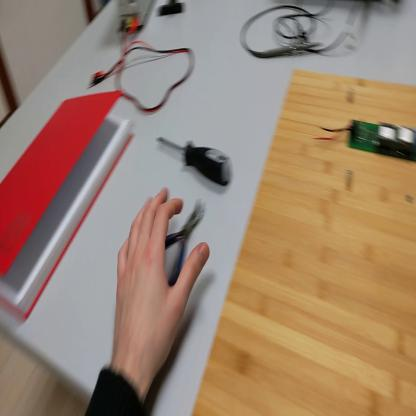hand: (112, 187, 209, 378)
high voltage board: (315, 114, 416, 163)
oscilloscope probe tip: (259, 40, 324, 63)
pliers: (167, 201, 212, 285)
power supply: (115, 1, 156, 38)
register: (2, 83, 140, 326)
screwdriver-: (152, 129, 235, 187)
working area: (188, 69, 416, 414)
